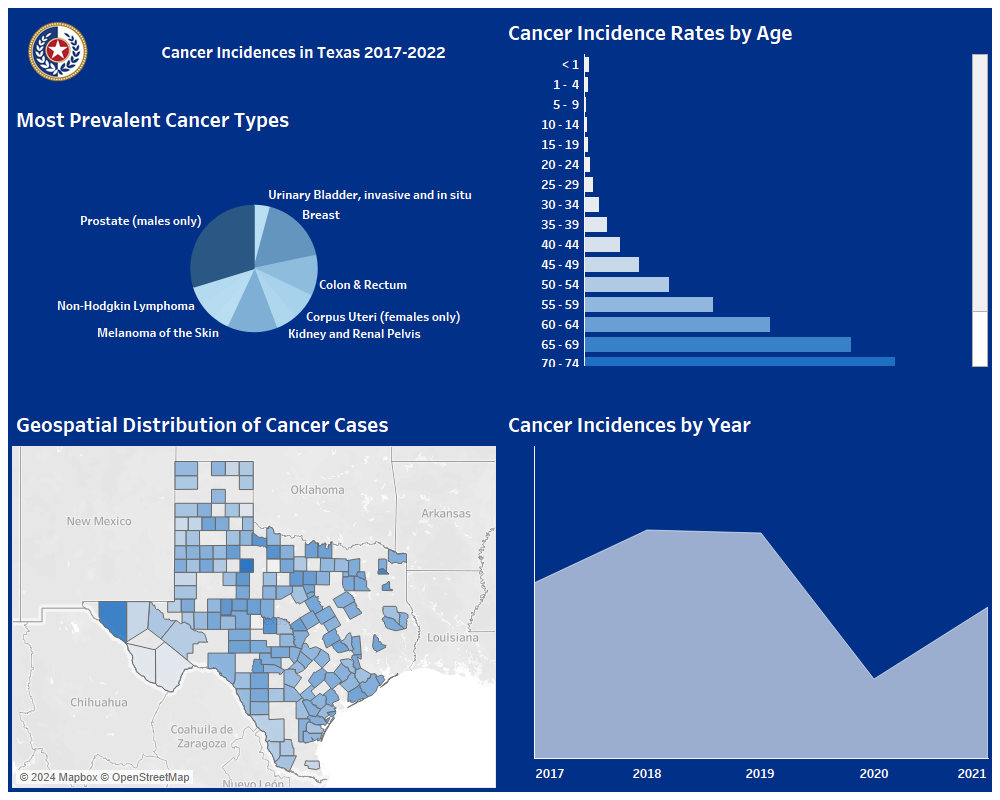

This screenshot's page, from the dashboard's own definition file:
{"tool":"tableau","page":{"name":"Cancer Incidences in Texas 2017-2022","canvas":[1000,800],"ordinal":0},"visuals":[{"type":"image","param":"C:/Users/beans/Documents/Jobs/Job Apps/Data Analytics Internships/DSHS Internshi","box":[8,8,99,87]},{"type":"text","box":[107,8,393,87]},{"type":"worksheet","title":"Cancer Incidence Rates by Age","mark":"Automatic","rows":["Age"],"cols":["2017 - 2021 Rate"],"box":[500,8,492,392]},{"type":"worksheet","title":"Most Prevalent Cancer Types","mark":"Pie","box":[8,95,492,305]},{"type":"worksheet","title":"Geospatial Distribution of Cancer Cases","mark":"Automatic","box":[8,400,492,392]},{"type":"worksheet","title":"Cancer Incidences by Year ","mark":"Area","rows":["Age-Adjusted Rate"],"cols":["Year"],"box":[500,400,492,392]}]}

Visuals, with their boxes in screenshot pixels (x1, y1, x2, y2), scaled from the page's 1000x800 canvas onto the 1000x800 screenshot:
image: <bbox>8, 8, 107, 95</bbox>
text: <bbox>107, 8, 500, 95</bbox>
"Cancer Incidence Rates by Age" worksheet: <bbox>500, 8, 992, 400</bbox>
"Most Prevalent Cancer Types" worksheet (Pie marks): <bbox>8, 95, 500, 400</bbox>
"Geospatial Distribution of Cancer Cases" worksheet: <bbox>8, 400, 500, 792</bbox>
"Cancer Incidences by Year " worksheet (Area marks): <bbox>500, 400, 992, 792</bbox>
